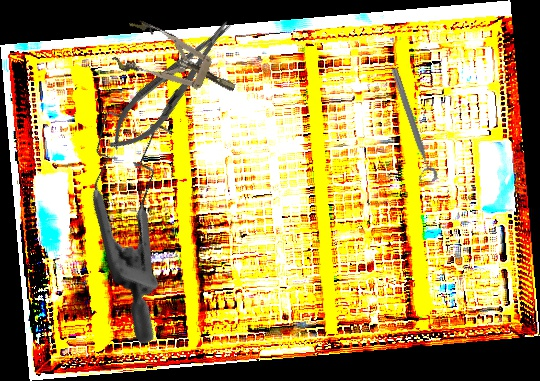Fixation Ring: (381, 66, 440, 186)
Needle Holder: (96, 8, 246, 164)
Speculum: (19, 87, 263, 347), (109, 15, 245, 114)
